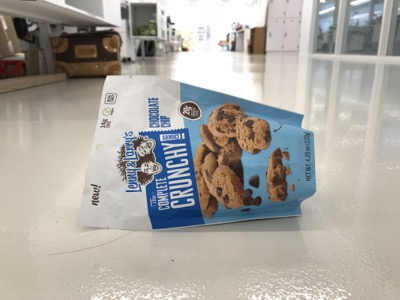cookie: (78, 74, 317, 231)
